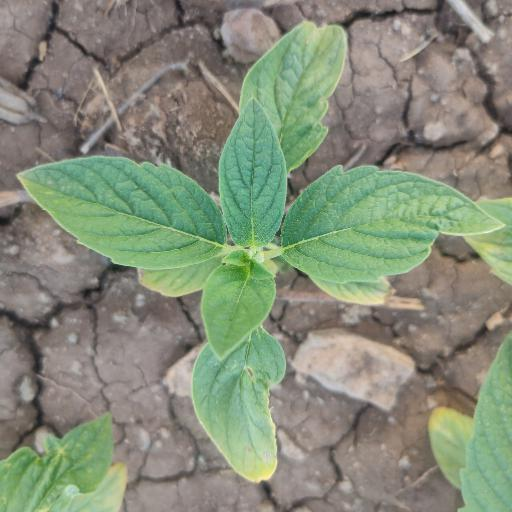crop: (16, 23, 507, 478)
